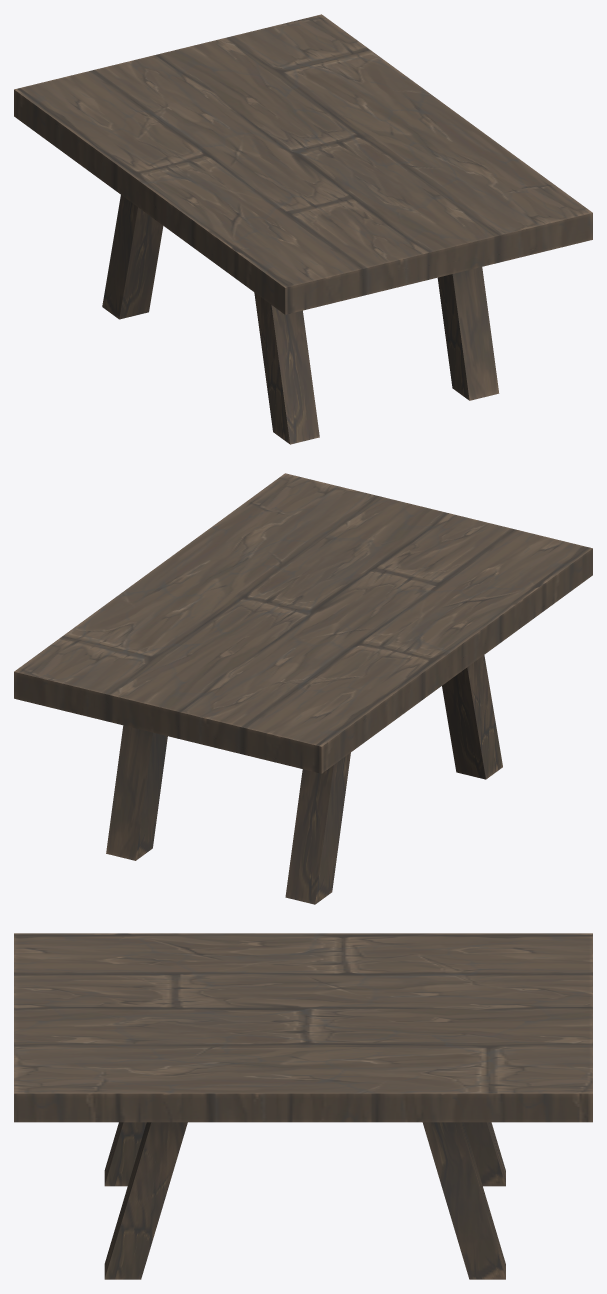
Rendered from Table.obj.
The picture shows the model from 3 angles, top to bottom: view 1: azimuth 30°, elevation 25°; view 2: azimuth 150°, elevation 25°; view 3: azimuth 270°, elevation 25°; orthographic projection. The views are drawn at different scales.
Visible parts, largest first — view 1: Cube, Cube.001, Cube.002, Cube.003; view 2: Cube, Cube.003, Cube.005, Cube.001; view 3: Cube, Cube.002, Cube.005, Cube.001, Cube.003.
Part boxes in pixels (x1=…): Cube: x1=14, y1=14, x2=592, y2=314; Cube.001: x1=254, y1=292, x2=319, y2=444; Cube.002: x1=437, y1=267, x2=499, y2=400; Cube.003: x1=102, y1=195, x2=163, y2=319; Cube: x1=14, y1=473, x2=592, y2=773; Cube.003: x1=285, y1=752, x2=350, y2=904; Cube.005: x1=106, y1=725, x2=167, y2=860; Cube.001: x1=442, y1=655, x2=502, y2=779; Cube: x1=14, y1=933, x2=592, y2=1122; Cube.002: x1=104, y1=1122, x2=187, y2=1279; Cube.005: x1=422, y1=1122, x2=505, y2=1279; Cube.001: x1=104, y1=1122, x2=146, y2=1186; Cube.003: x1=464, y1=1122, x2=505, y2=1186.
Bounding box in the file's own units: 20.75 × 12.84 × 31.67.
Materials: 1 (1 with a texture image).
